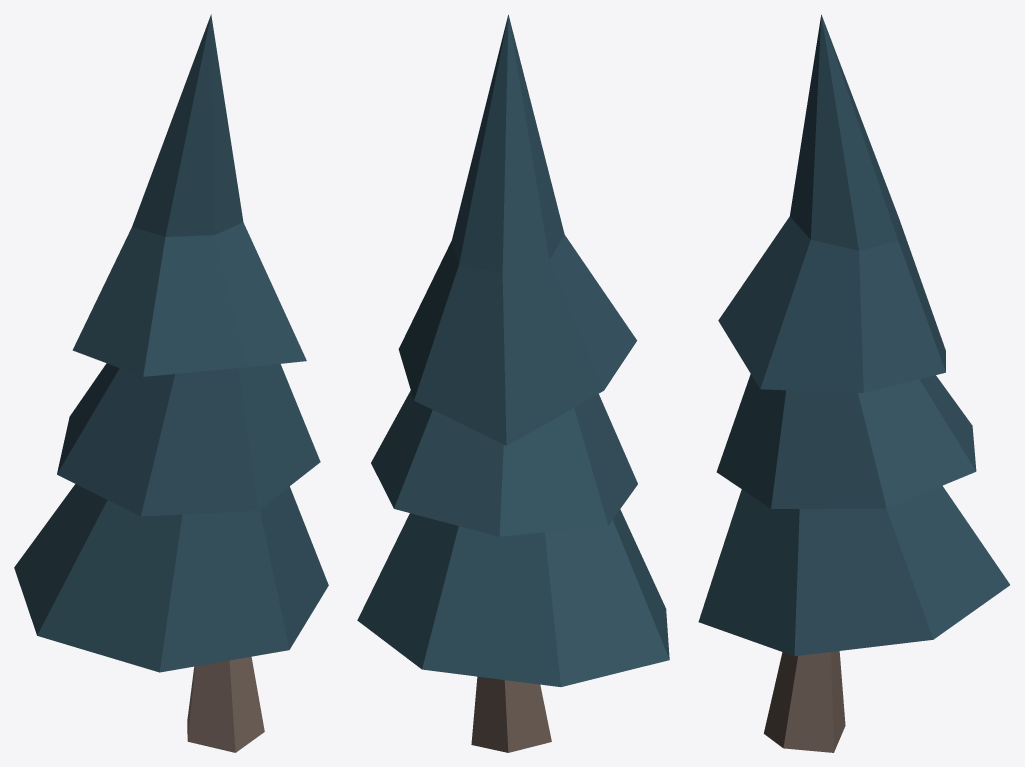
Rendered from fbTree3.fbx.
The picture shows the model from 3 angles, left to right: view 1: azimuth 30°, elevation 25°; view 2: azimuth 150°, elevation 25°; view 3: azimuth 270°, elevation 25°; orthographic projection.
Visible parts, largest first — view 1: fbTreeFir3; view 2: fbTreeFir3; view 3: fbTreeFir3.
Part boxes in pixels (<box>): fbTreeFir3: <box>14,14,328,752</box>; fbTreeFir3: <box>357,14,669,752</box>; fbTreeFir3: <box>698,14,1009,752</box>.
Size of the model in its own units: 83.04 by 211 by 82.44.
